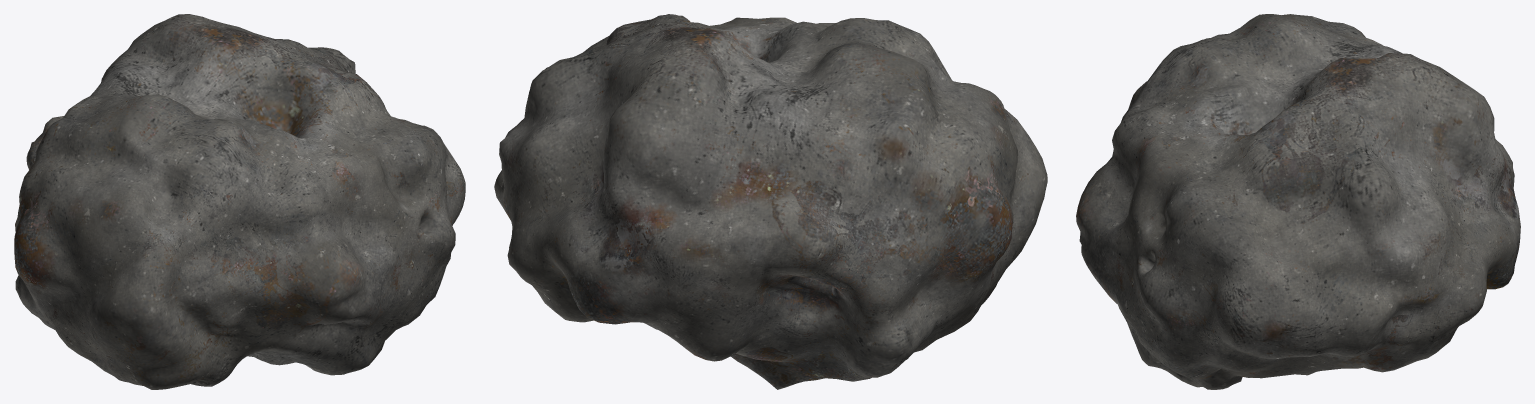
File: Rocky_Asteroid_6.obj
The picture shows the model from 3 angles, left to right: view 1: azimuth 30°, elevation 25°; view 2: azimuth 150°, elevation 25°; view 3: azimuth 270°, elevation 25°; orthographic projection. The views are drawn at different scales.
Parts seen in each view (by area): view 1: Rocky_Asteroid_6; view 2: Rocky_Asteroid_6; view 3: Rocky_Asteroid_6.
Boxes of the visible parts, x1=… form: Rocky_Asteroid_6: x1=14, y1=14, x2=465, y2=389; Rocky_Asteroid_6: x1=494, y1=14, x2=1047, y2=389; Rocky_Asteroid_6: x1=1076, y1=14, x2=1520, y2=389.
Bounding box in the file's own units: 1.8 × 1.18 × 1.57.
Materials: 1 (1 with a texture image).
